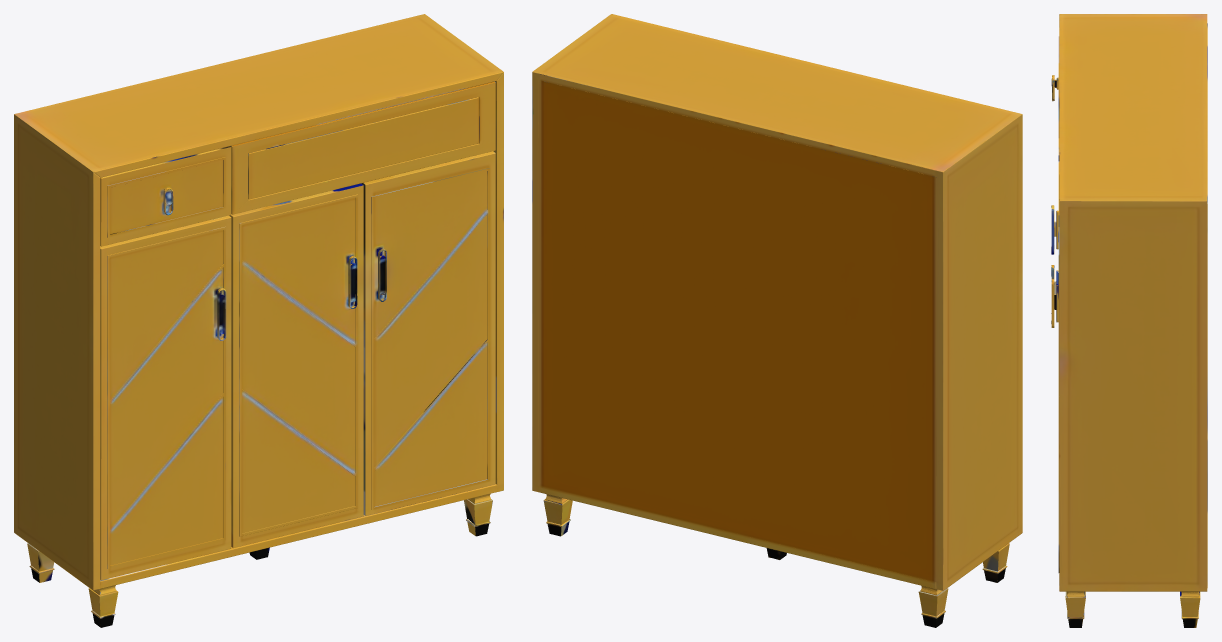
File: edited_mesh.glb
The picture shows the model from 3 angles, left to right: view 1: azimuth 30°, elevation 25°; view 2: azimuth 150°, elevation 25°; view 3: azimuth 270°, elevation 25°; orthographic projection. The views are drawn at different scales.
Visible parts, largest first — view 1: solid_001_wire; view 2: solid_001_wire; view 3: solid_001_wire.
Boxes of the visible parts, x1,y1,x2,y2 form: solid_001_wire: (14,14,503,627); solid_001_wire: (532,14,1022,627); solid_001_wire: (1051,14,1207,627).
Size of the model in its own units: 1.27 by 1.37 by 0.4471.
Materials: 1 (1 with a texture image).
